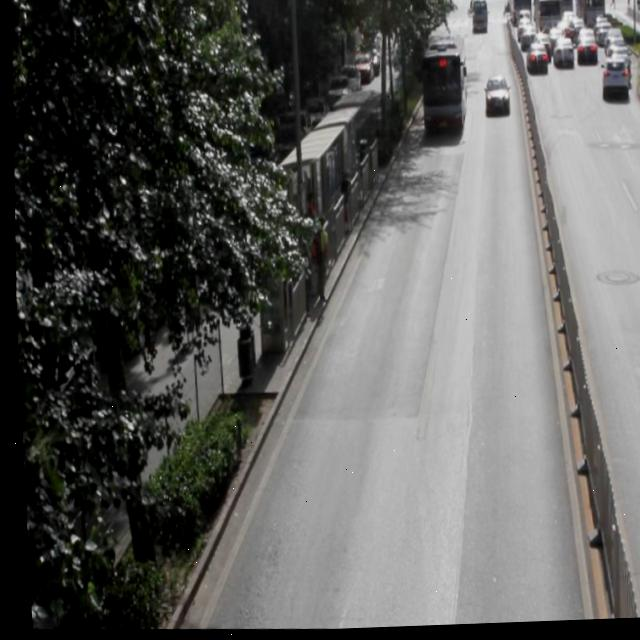car: (480, 78, 508, 120)
van: (417, 36, 467, 136)
